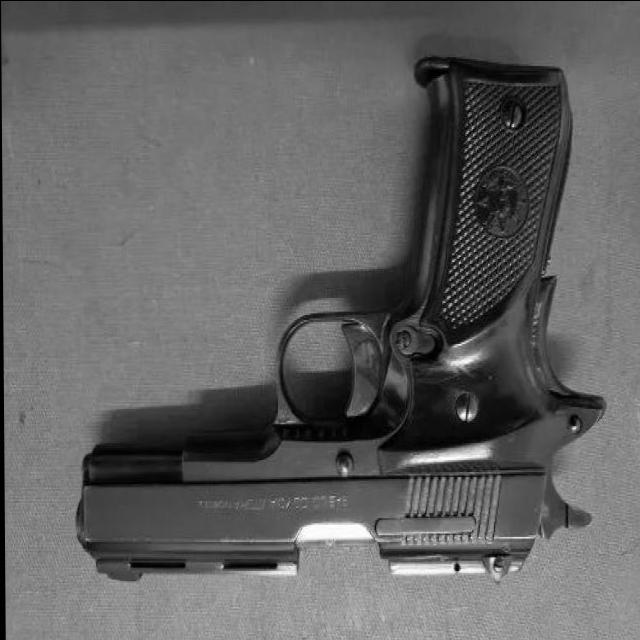handgun: (67, 56, 605, 576)
